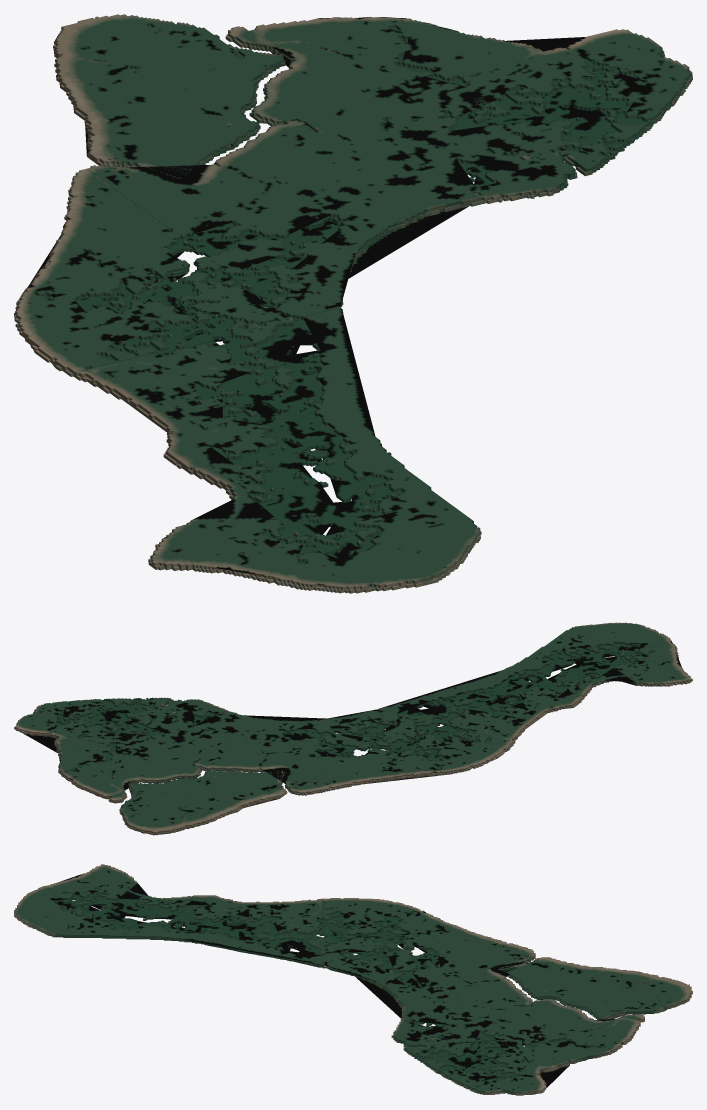
Rendered from AmarAntes.fbx.
3 views of the same model, one above another, from view 1: azimuth 30°, elevation 25°; view 2: azimuth 150°, elevation 25°; view 3: azimuth 270°, elevation 25° (orthographic). The views are drawn at different scales.
Visible parts, largest first — view 1: MapMk3-1; view 2: MapMk3-1; view 3: MapMk3-1.
Boxes of the visible parts, x1,y1,x2,y2 form: MapMk3-1: (14, 14, 692, 593); MapMk3-1: (14, 622, 692, 835); MapMk3-1: (14, 864, 692, 1095).
Size of the model in its own units: 3610 by 20 by 4530.
